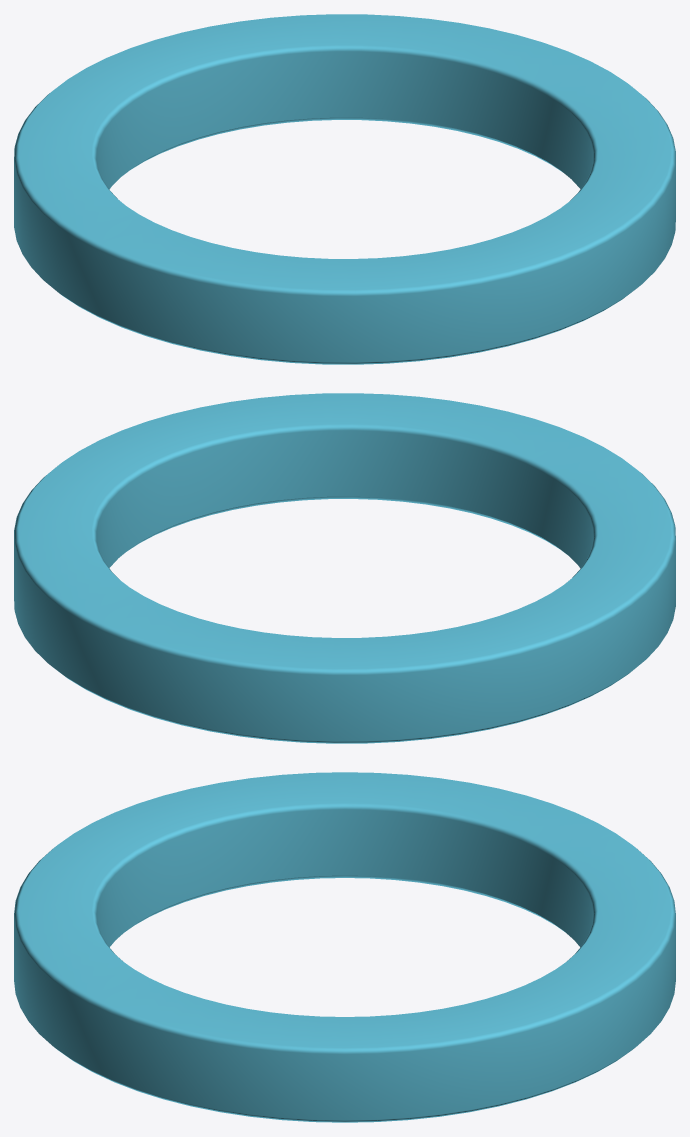
3 views of the same model, one above another, from view 1: azimuth 30°, elevation 25°; view 2: azimuth 150°, elevation 25°; view 3: azimuth 270°, elevation 25° (orthographic).
Parts seen in each view (by area): view 1: seal_body; view 2: seal_body; view 3: seal_body.
Boxes of the visible parts, x1,y1,x2,y2 form: seal_body: (14,14,675,364); seal_body: (14,393,675,743); seal_body: (14,772,675,1122).
Size of the model in its own units: 0.0762 by 0.00952 by 0.0762.
